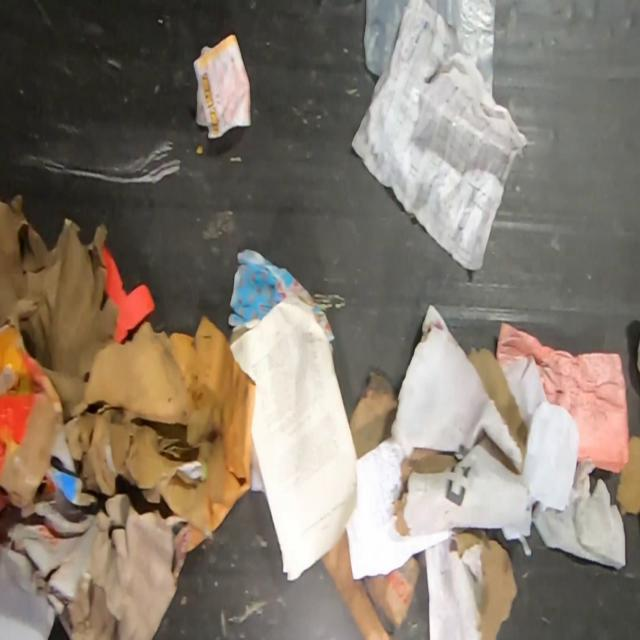cardboard: (0, 195, 258, 640), (389, 345, 530, 540), (318, 528, 420, 639), (448, 531, 518, 639), (348, 369, 400, 463), (615, 435, 640, 517)
soft_plastic: (364, 0, 497, 101)
